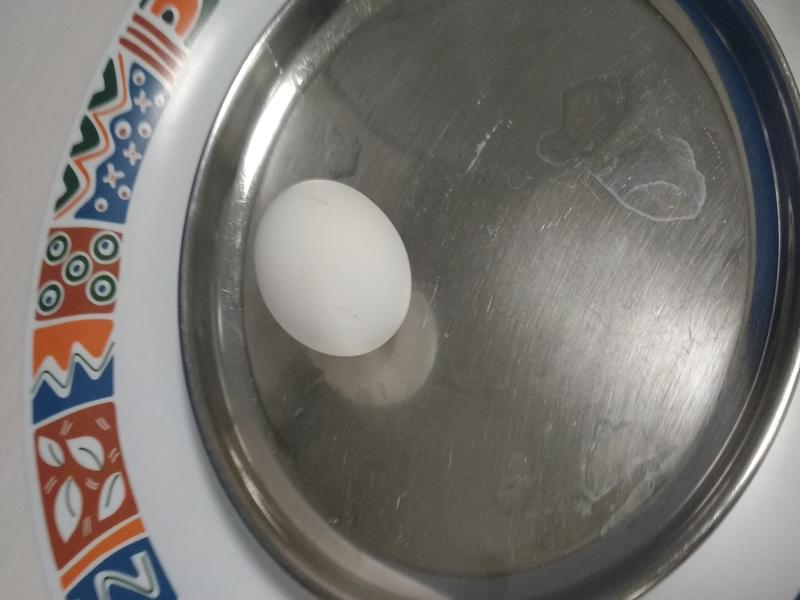egg: (250, 181, 407, 357)
